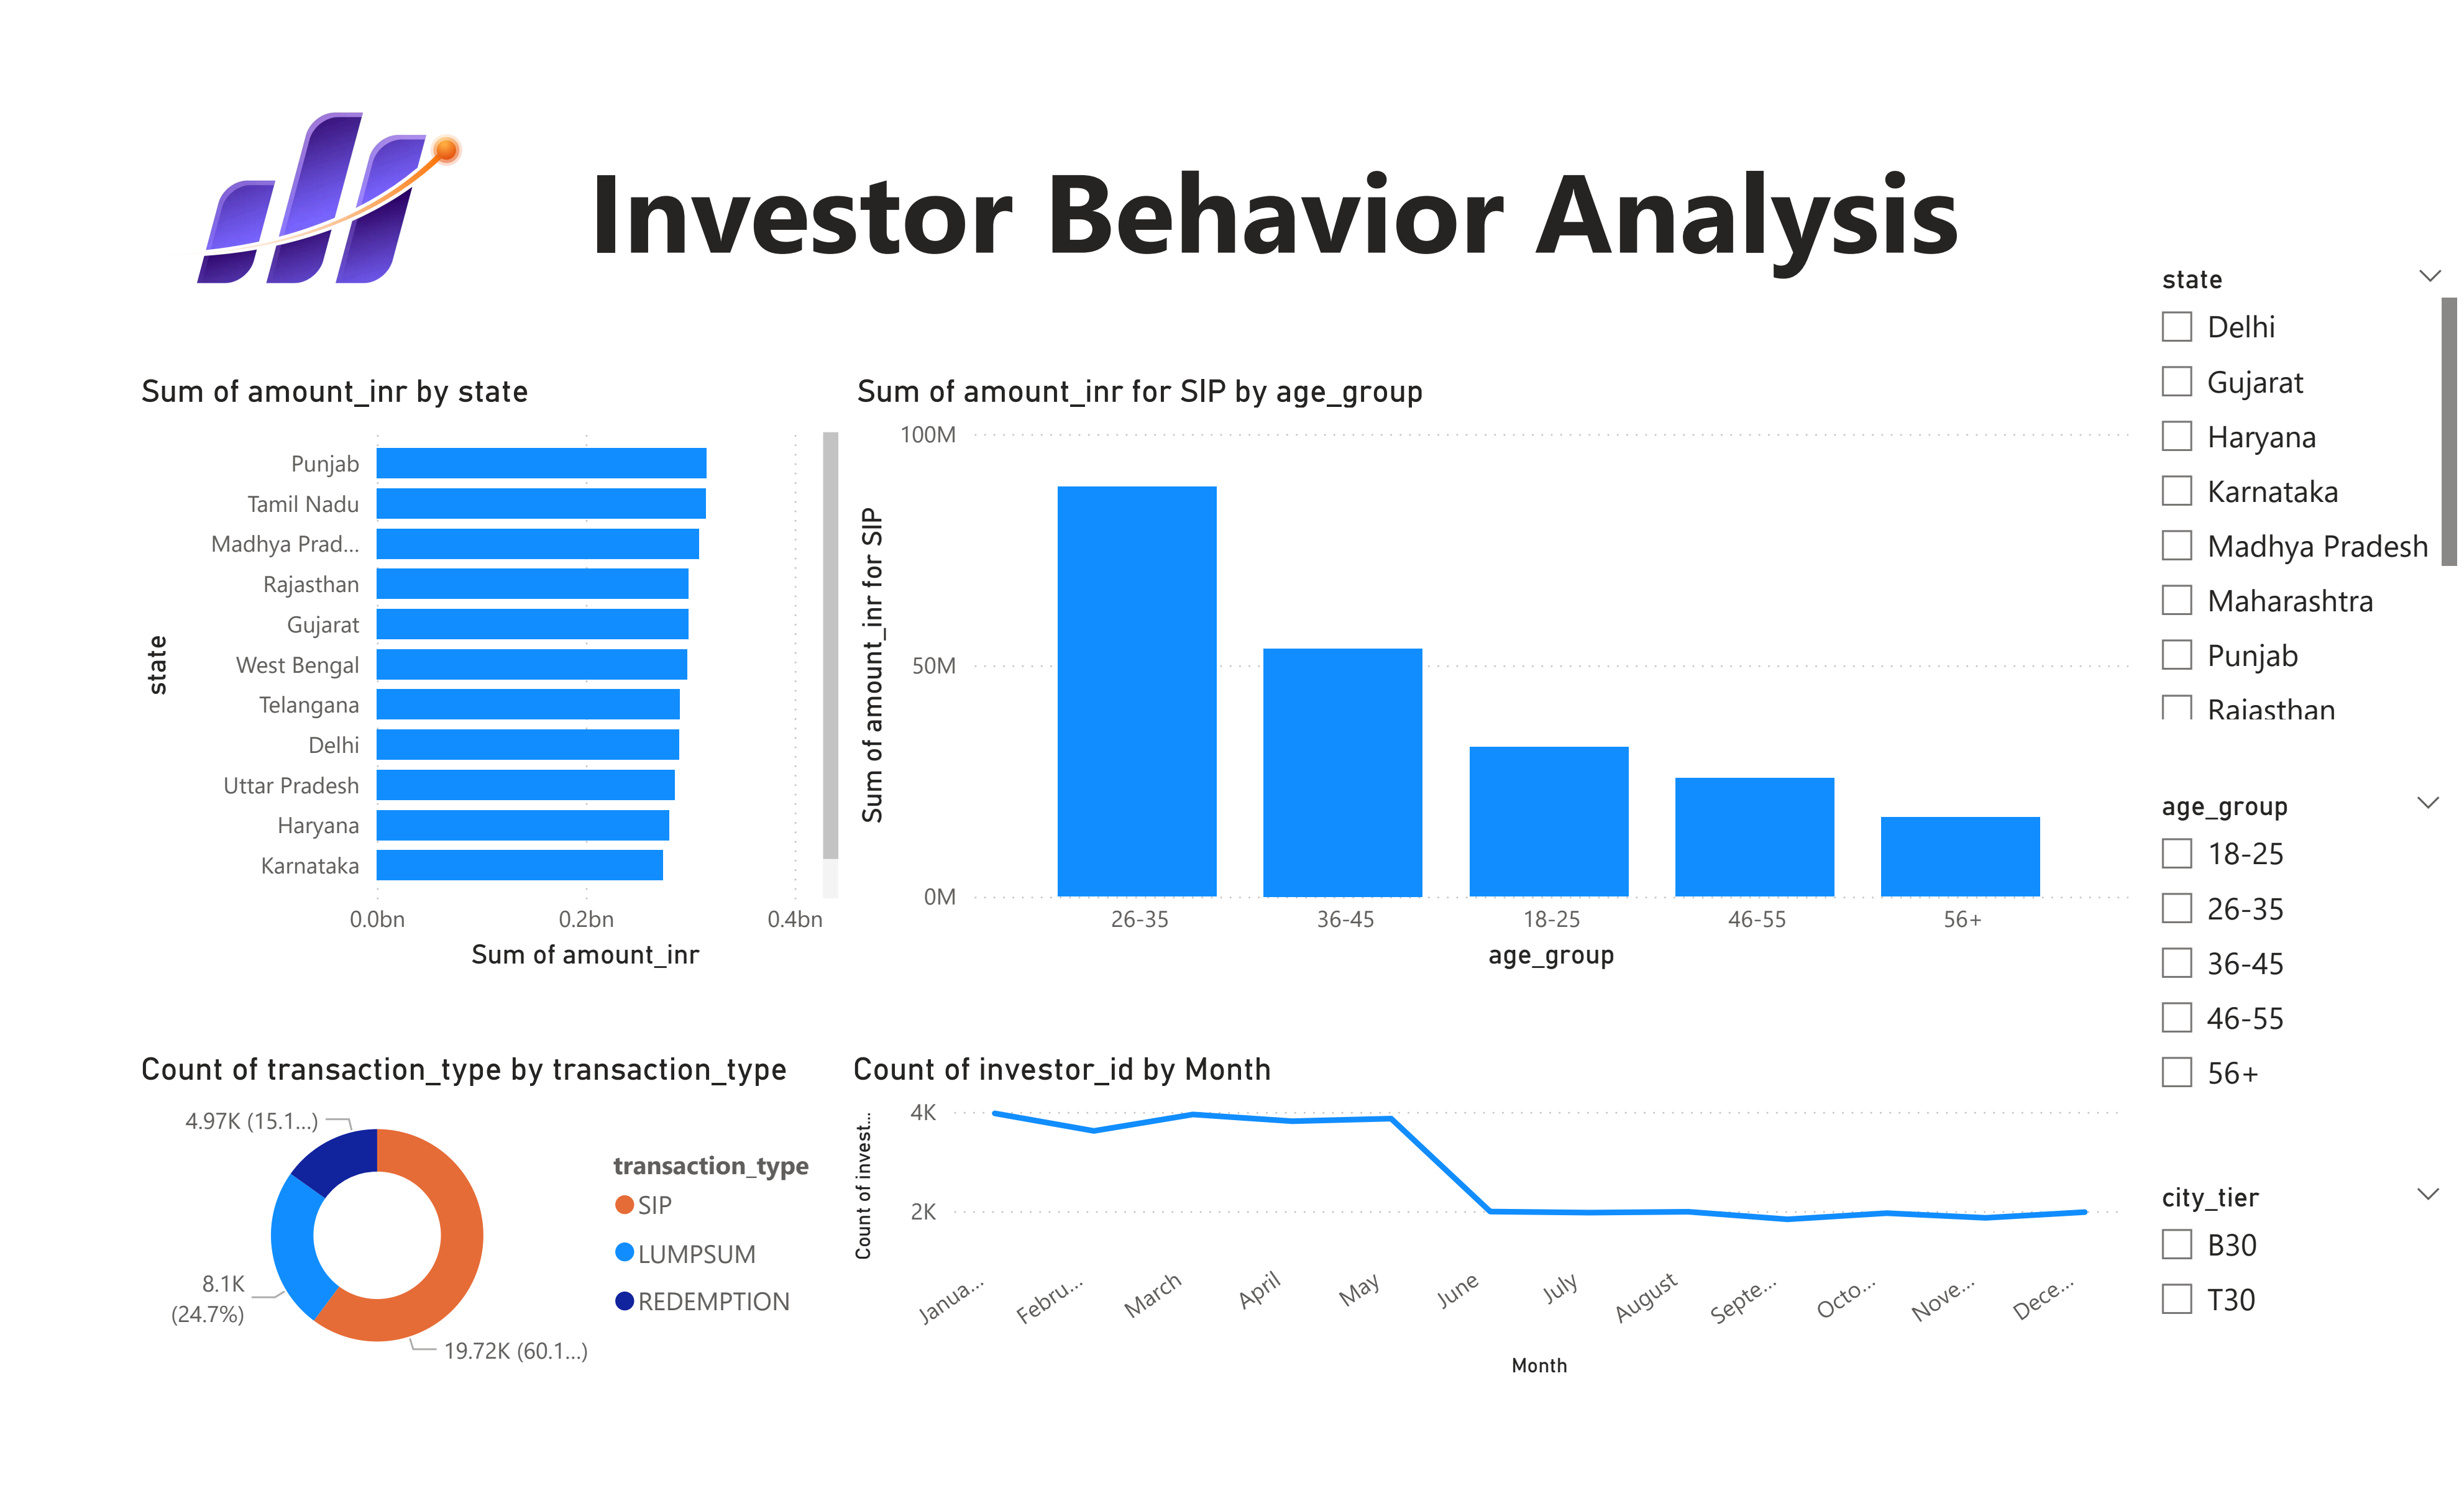

What the dashboard file says about the page in this screenshot:
{"tool":"powerbi","page":{"name":"Page 3","canvas":[1280,720],"ordinal":2},"visuals":[{"type":"image","box":[45.3,11.3,179.6,116.5],"z":0},{"type":"textbox","box":[281.5,30.7,823.6,97.1],"z":1000},{"type":"clusteredBarChart","fields":{"Y":["Sum(08_investor_transactions_cleaned.amount_inr)"],"Category":["08_investor_transactions_cleaned.state"]},"box":[45.3,161.8,378.6,322],"z":2000},{"type":"donutChart","fields":{"Category":["08_investor_transactions_cleaned.transaction_type"],"Y":["CountNonNull(08_investor_transactions_cleaned.transaction_type)"]},"box":[45.3,521,378.6,178],"z":3000},{"type":"clusteredColumnChart","fields":{"Category":["08_investor_transactions_cleaned.age_group"],"Y":["08_investor_transactions_cleaned.Sum of amount_inr for SIP"]},"box":[423.9,161.8,682.8,322],"z":4000},{"type":"lineChart","fields":{"Category":["08_investor_transactions_cleaned.transaction_date.Variation.Date Hierarchy.Month"],"Y":["CountNonNull(08_investor_transactions_cleaned.investor_id)"]},"box":[422.3,521,682.8,178],"z":5000},{"type":"slicer","fields":{"Values":["08_investor_transactions_cleaned.state"]},"box":[1106.7,100.3,174.7,250.8],"z":6000},{"type":"slicer","fields":{"Values":["08_investor_transactions_cleaned.age_group"]},"box":[1106.7,378.6,173.1,181.2],"z":7000},{"type":"slicer","fields":{"Values":["08_investor_transactions_cleaned.city_tier"]},"box":[1106.7,585.7,173.1,89],"z":8000}]}

Visuals, with their boxes on the page's 1280x720 design canvas (x1, y1, x2, y2). These are canvas units, not pixel positions in the 2464x1491 screenshot, which may show the page scaled, cropped or inside an application window:
image: box=[45, 11, 225, 128]
textbox: box=[282, 31, 1105, 128]
clusteredBarChart - Sum(08_investor_transactions_cleaned.amount_inr) x 08_investor_transactions_cleaned.state: box=[45, 162, 424, 484]
donutChart - 08_investor_transactions_cleaned.transaction_type x CountNonNull(08_investor_transactions_cleaned.transaction_type): box=[45, 521, 424, 699]
clusteredColumnChart - 08_investor_transactions_cleaned.age_group x 08_investor_transactions_cleaned.Sum of amount_inr for SIP: box=[424, 162, 1107, 484]
lineChart - 08_investor_transactions_cleaned.transaction_date.Variation.Date Hierarchy.Month x CountNonNull(08_investor_transactions_cleaned.investor_id): box=[422, 521, 1105, 699]
slicer - 08_investor_transactions_cleaned.state: box=[1107, 100, 1281, 351]
slicer - 08_investor_transactions_cleaned.age_group: box=[1107, 379, 1280, 560]
slicer - 08_investor_transactions_cleaned.city_tier: box=[1107, 586, 1280, 675]
